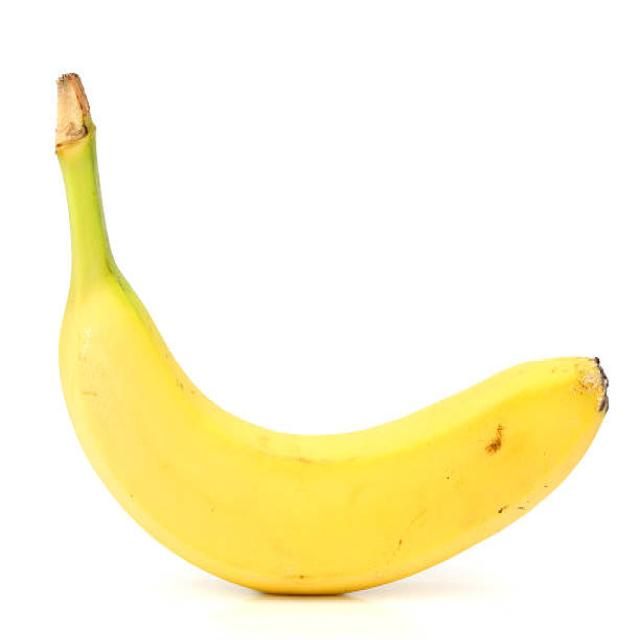banana: (58, 75, 612, 596)
